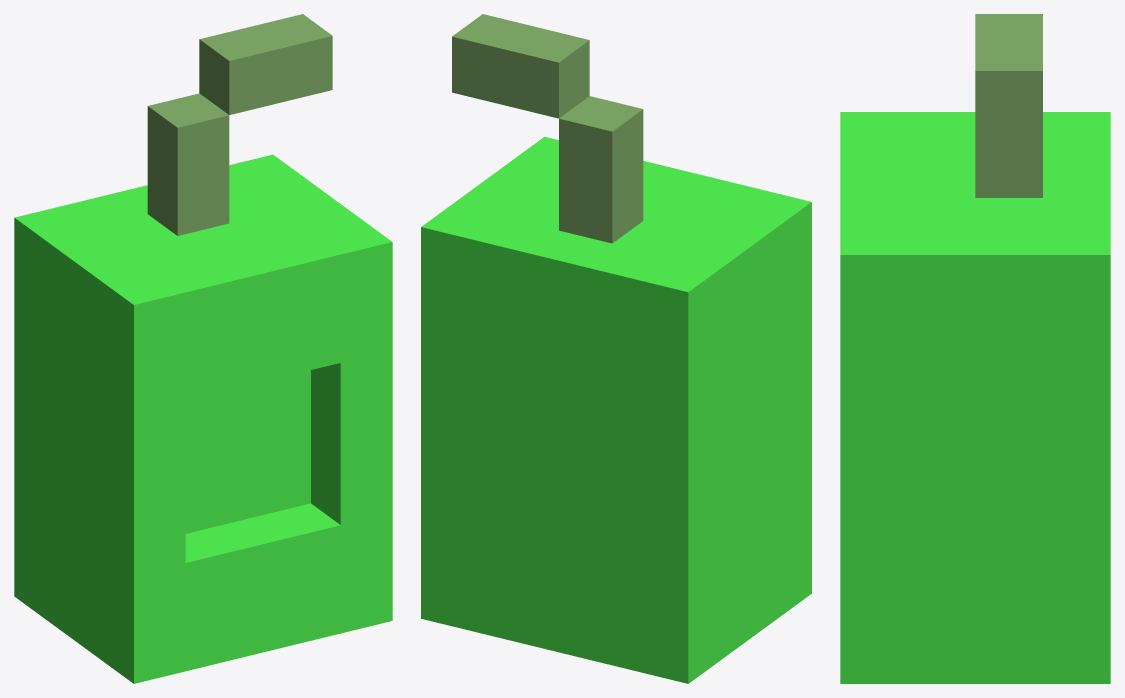
3 renders of one model, left to right at view 1: azimuth 30°, elevation 25°; view 2: azimuth 150°, elevation 25°; view 3: azimuth 270°, elevation 25°, orthographic. The views are drawn at different scales.
Parts seen in each view (by area): view 1: 123; view 2: 123; view 3: 123.
Boxes of the visible parts, x1,y1,x2,y2 form: 123: (14, 14, 392, 683); 123: (421, 14, 811, 683); 123: (840, 14, 1110, 683).
Size of the model in its own units: 50 by 100 by 40.
Materials: 1 (1 with a texture image).
